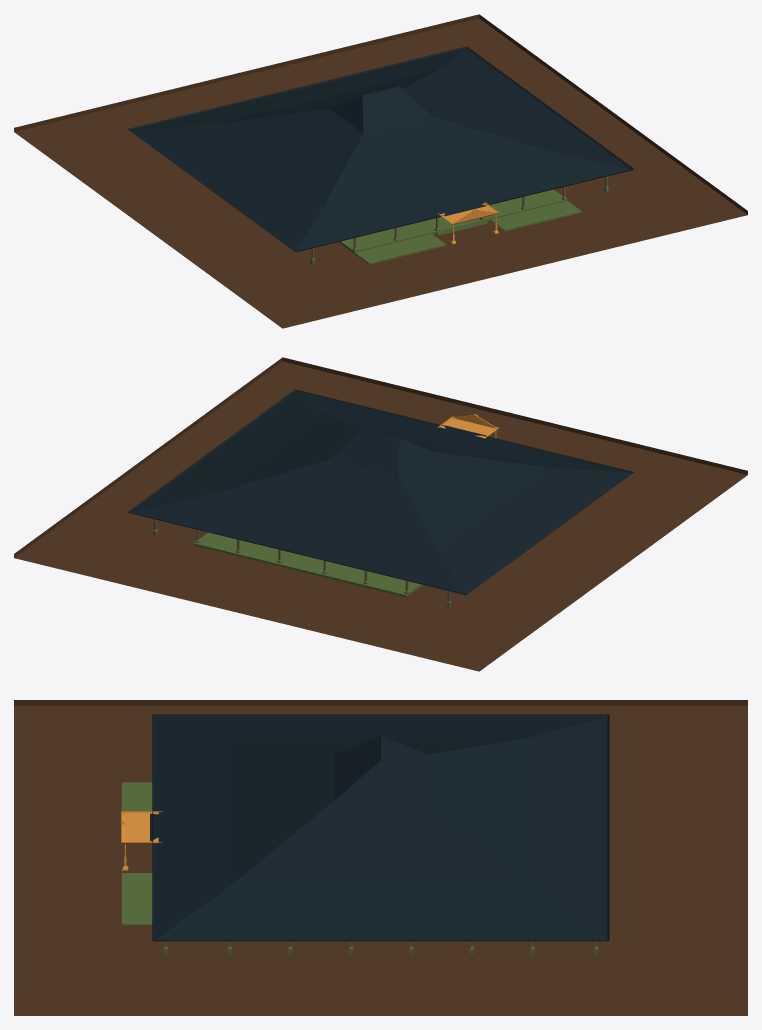
File: Mangkunegaran.glb
3 views of the same model, one above another, from view 1: azimuth 30°, elevation 25°; view 2: azimuth 150°, elevation 25°; view 3: azimuth 270°, elevation 25° (orthographic). The views are drawn at different scales.
Parts seen in each view (by area): view 1: Plane.002, Plane.001, Plane, Plane.005, Plane.003; view 2: Plane.002, Plane.001, Plane, Plane.005, Plane.004; view 3: Plane.002, Plane.001, Plane.005, Plane, Plane.004, Plane.003.
Boxes of the visible parts, x1,y1,x2,y2 form: Plane.002: [14, 14, 747, 328]; Plane.001: [130, 48, 630, 251]; Plane: [339, 189, 582, 264]; Plane.005: [128, 46, 633, 252]; Plane.003: [444, 192, 497, 223]; Plane.002: [14, 357, 747, 671]; Plane.001: [131, 391, 631, 594]; Plane: [193, 532, 422, 597]; Plane.005: [128, 389, 633, 595]; Plane.004: [437, 416, 498, 438]; Plane.002: [14, 700, 747, 1015]; Plane.001: [154, 716, 607, 939]; Plane.005: [152, 714, 609, 941]; Plane: [122, 782, 152, 925]; Plane.004: [121, 811, 162, 843]; Plane.003: [123, 812, 192, 842].
Size of the model in its own units: 12.92 by 2.2 by 12.92.
